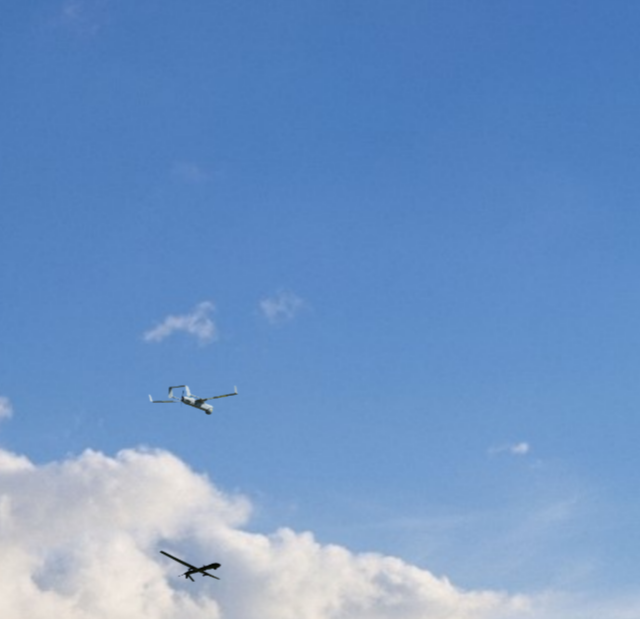military drone: (147, 384, 238, 414), (159, 550, 221, 581)
